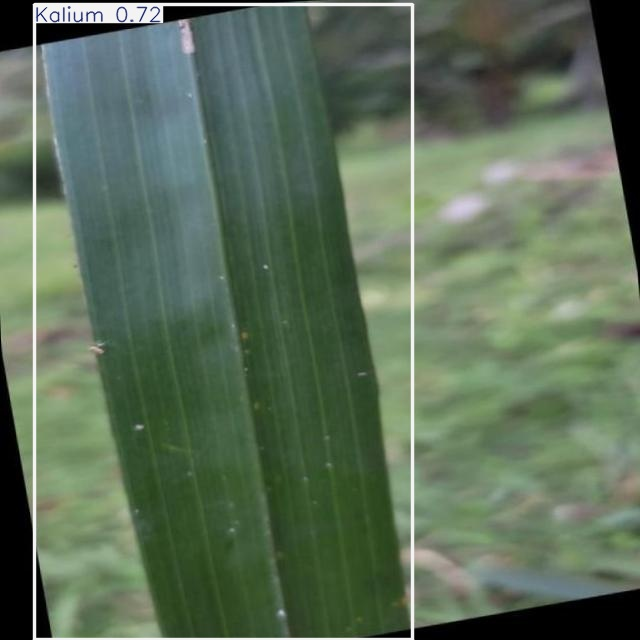Kalium: (35, 4, 413, 640)
